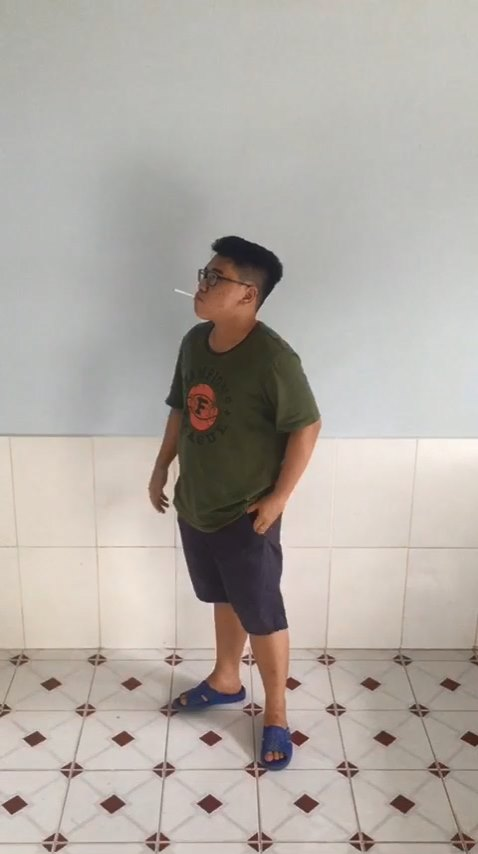cigarette: (171, 284, 199, 303)
person: (117, 214, 352, 787)
